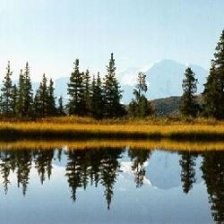neutral: (2, 8, 224, 223)
